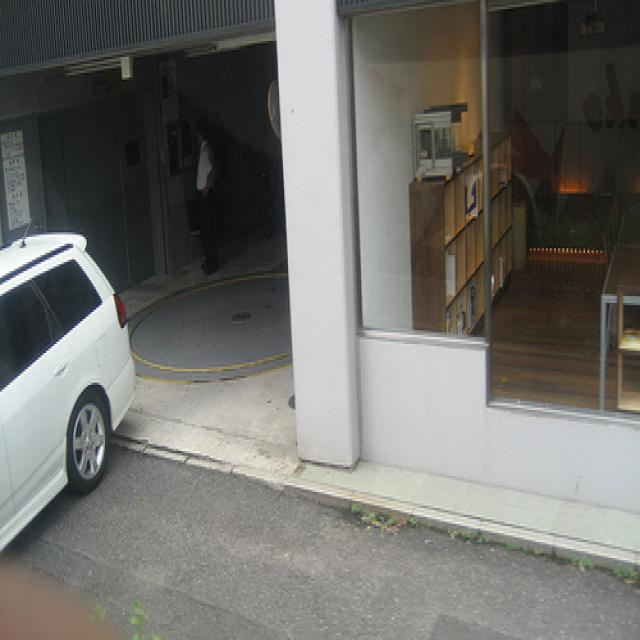Car: (0, 228, 136, 549)
